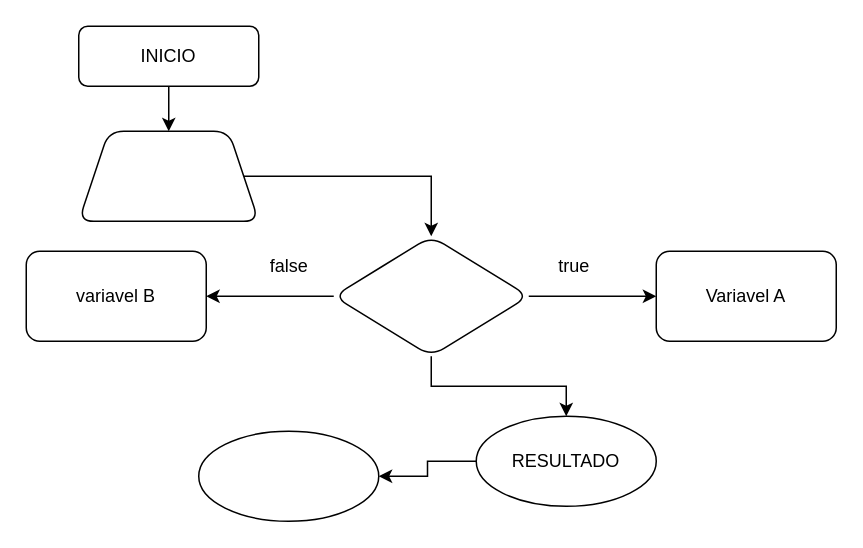
This 863x548 diagram has some shape labels left out. Here are the shapes that lost their labels. From the top down, the centre of each, then its label:
At point 168,175: "X=3".
At point 430,295: "se x=3".
